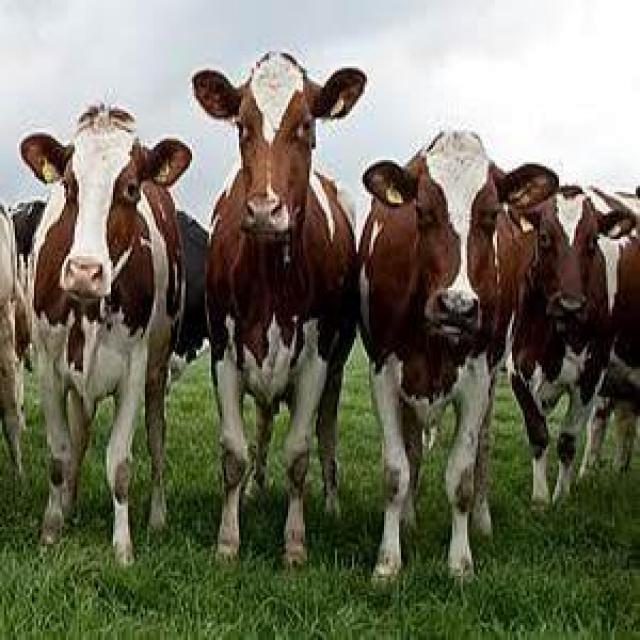COW: (359, 131, 559, 579), (192, 52, 366, 565), (20, 105, 191, 563), (511, 188, 638, 504)
